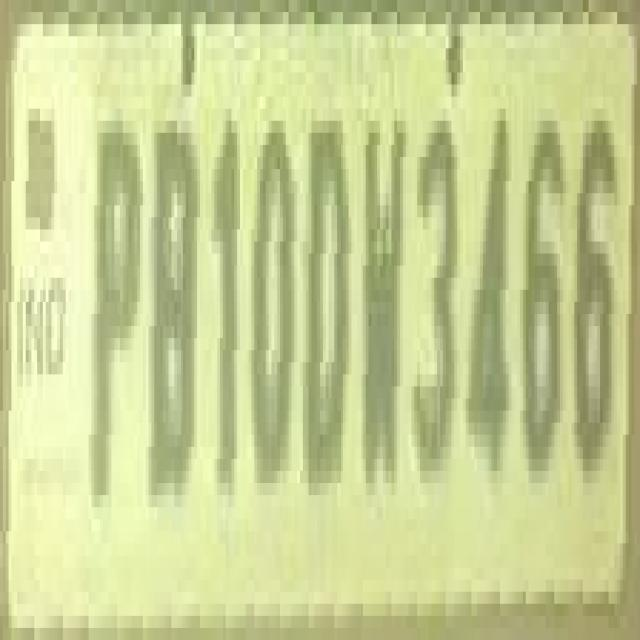plate: (17, 24, 640, 592)
